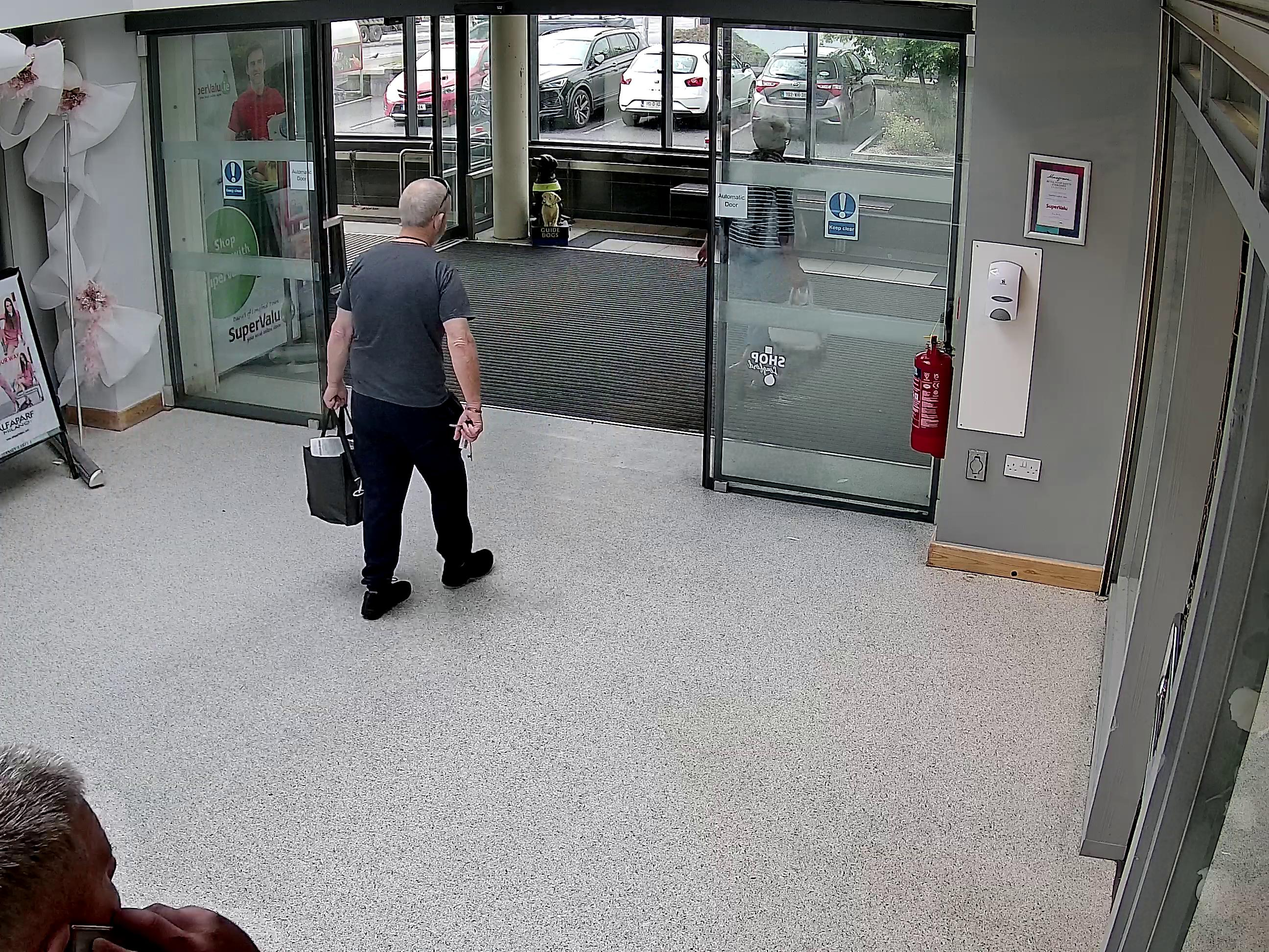filled-shopping-bags: (302, 404, 371, 526)
person: (324, 181, 494, 620)
person-with-filled-shopping-bag-s-: (303, 181, 493, 618)
